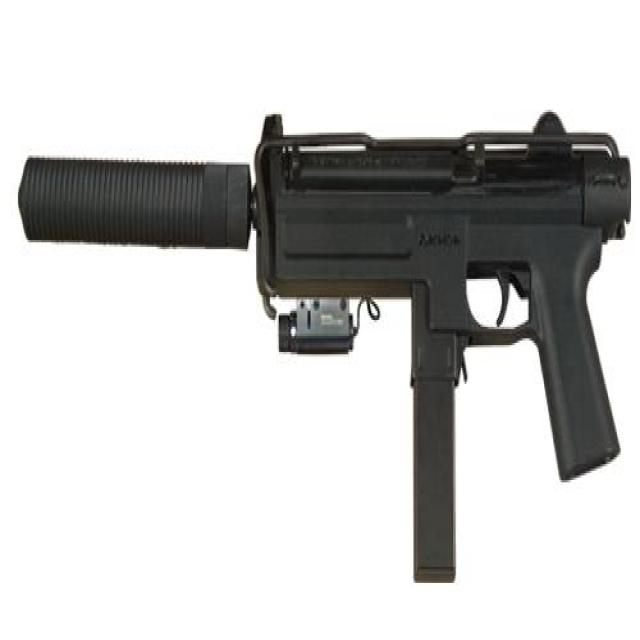weapon: (14, 101, 634, 594)
